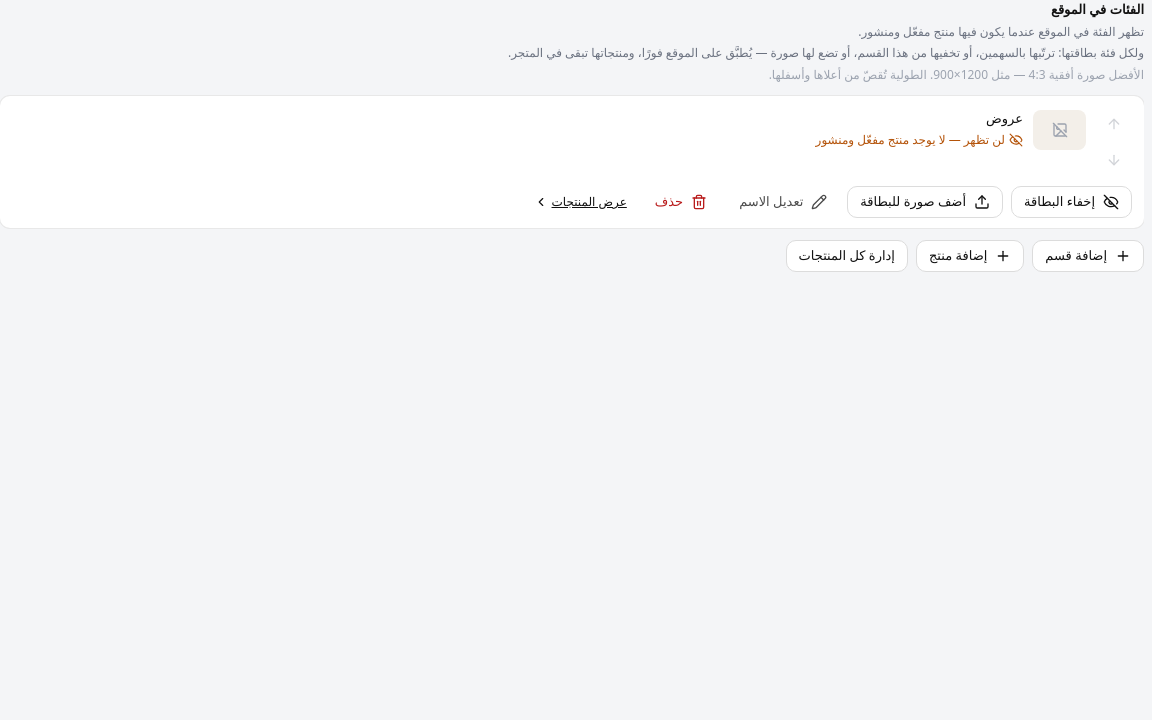
Test: اسمُ الفئة وحذفُها من المحرّر › وفئةٌ فيها منتجٌ مخفيّ يردّها الخادمُ — فيُقال السببُ وتبقى
The image size is (1152, 720).
Click the button with aria-label "حذف الفئة — عروض": (681, 202) [643,186,719,218]
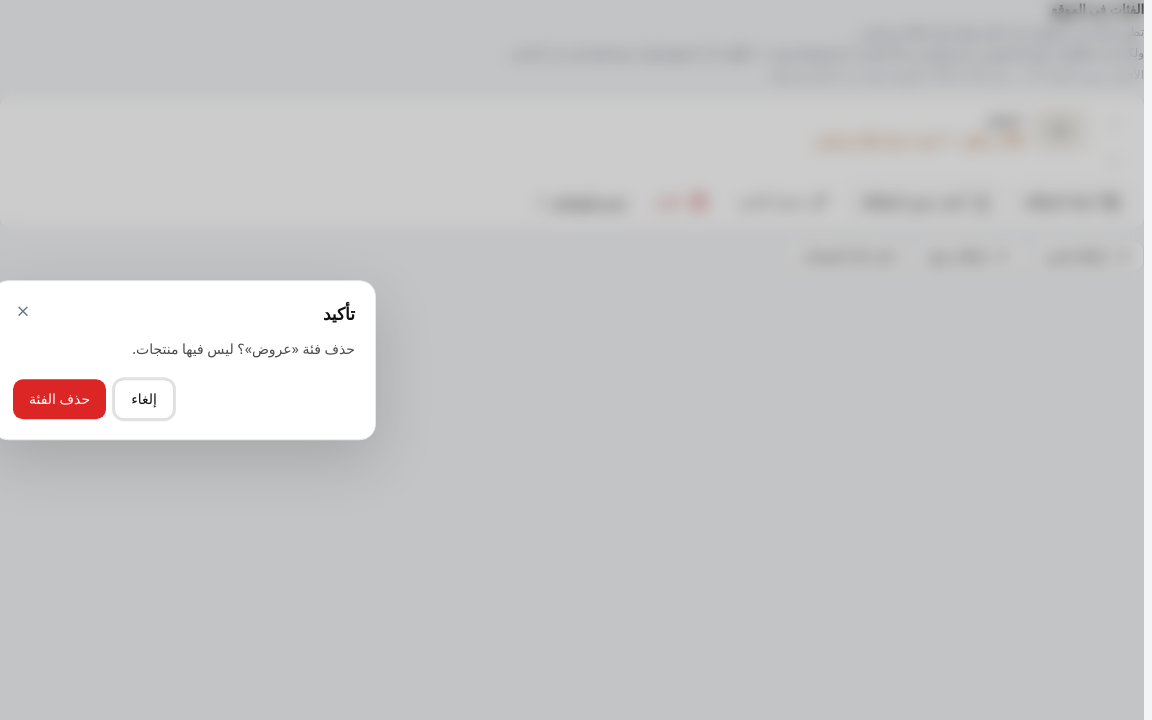
Click the button "حذف الفئة": (60, 399) [13,379,106,419]
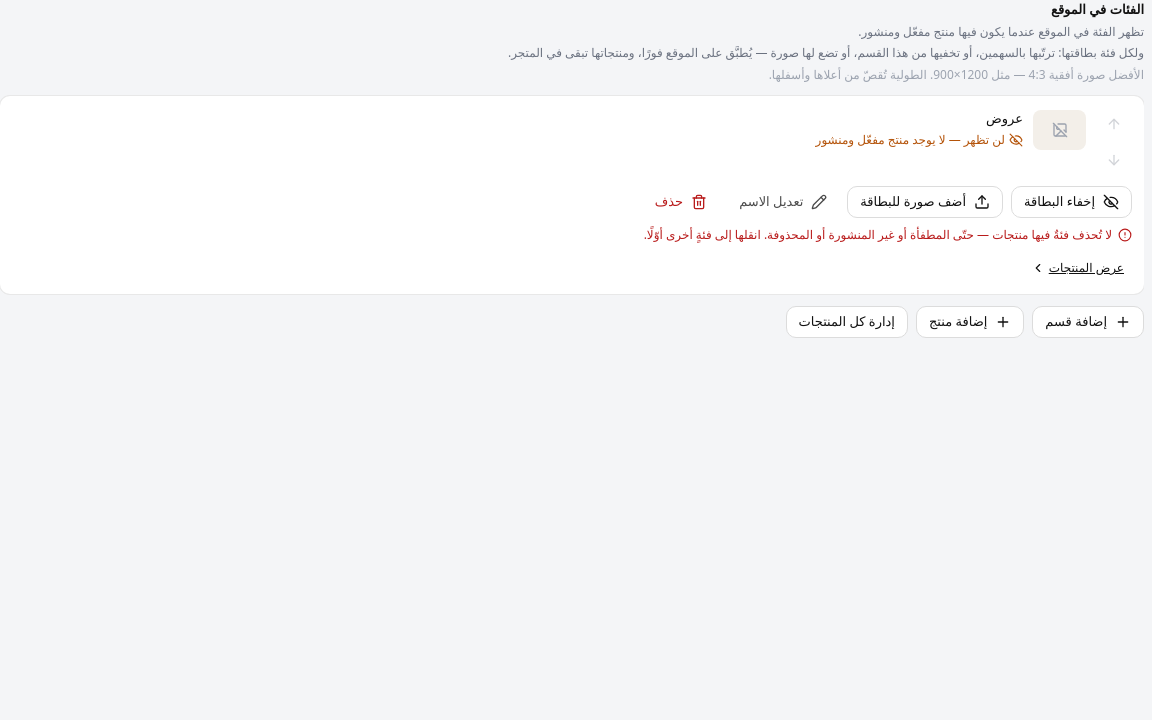
Check: the list item with test id "catalog-category-2" is shown, box [643,106,1132,276]
Check: the message with test id "catalog-naming-error-2" shows "لا تُحذف فئةٌ فيها منتجات — حتّى المطفأة أو غير المنشورة أو المحذوفة. انقلها إلى فئةٍ أخرى أوّلًا.", box [644,226,1112,243]
